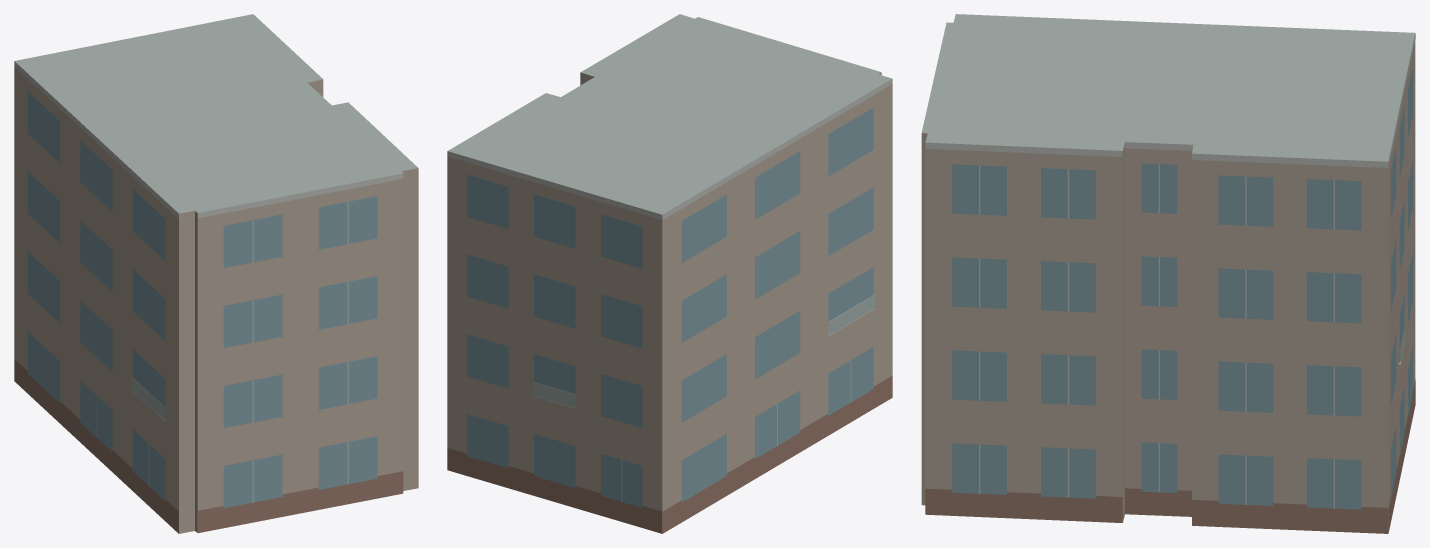
File: survey-upis-33020324.glb
3 renders of one model, left to right at view 1: azimuth 30°, elevation 25°; view 2: azimuth 150°, elevation 25°; view 3: azimuth 270°, elevation 25°, orthographic. The views are drawn at different scales.
Parts seen in each view (by area): view 1: survey-upis-33020324.tmp; view 2: survey-upis-33020324.tmp; view 3: survey-upis-33020324.tmp.
Part boxes in pixels (bbox=[...]): survey-upis-33020324.tmp: bbox=[14, 14, 418, 533]; survey-upis-33020324.tmp: bbox=[447, 14, 892, 533]; survey-upis-33020324.tmp: bbox=[921, 14, 1415, 533].
Bounding box in the file's own units: 12.35 × 14.5 × 17.45.
